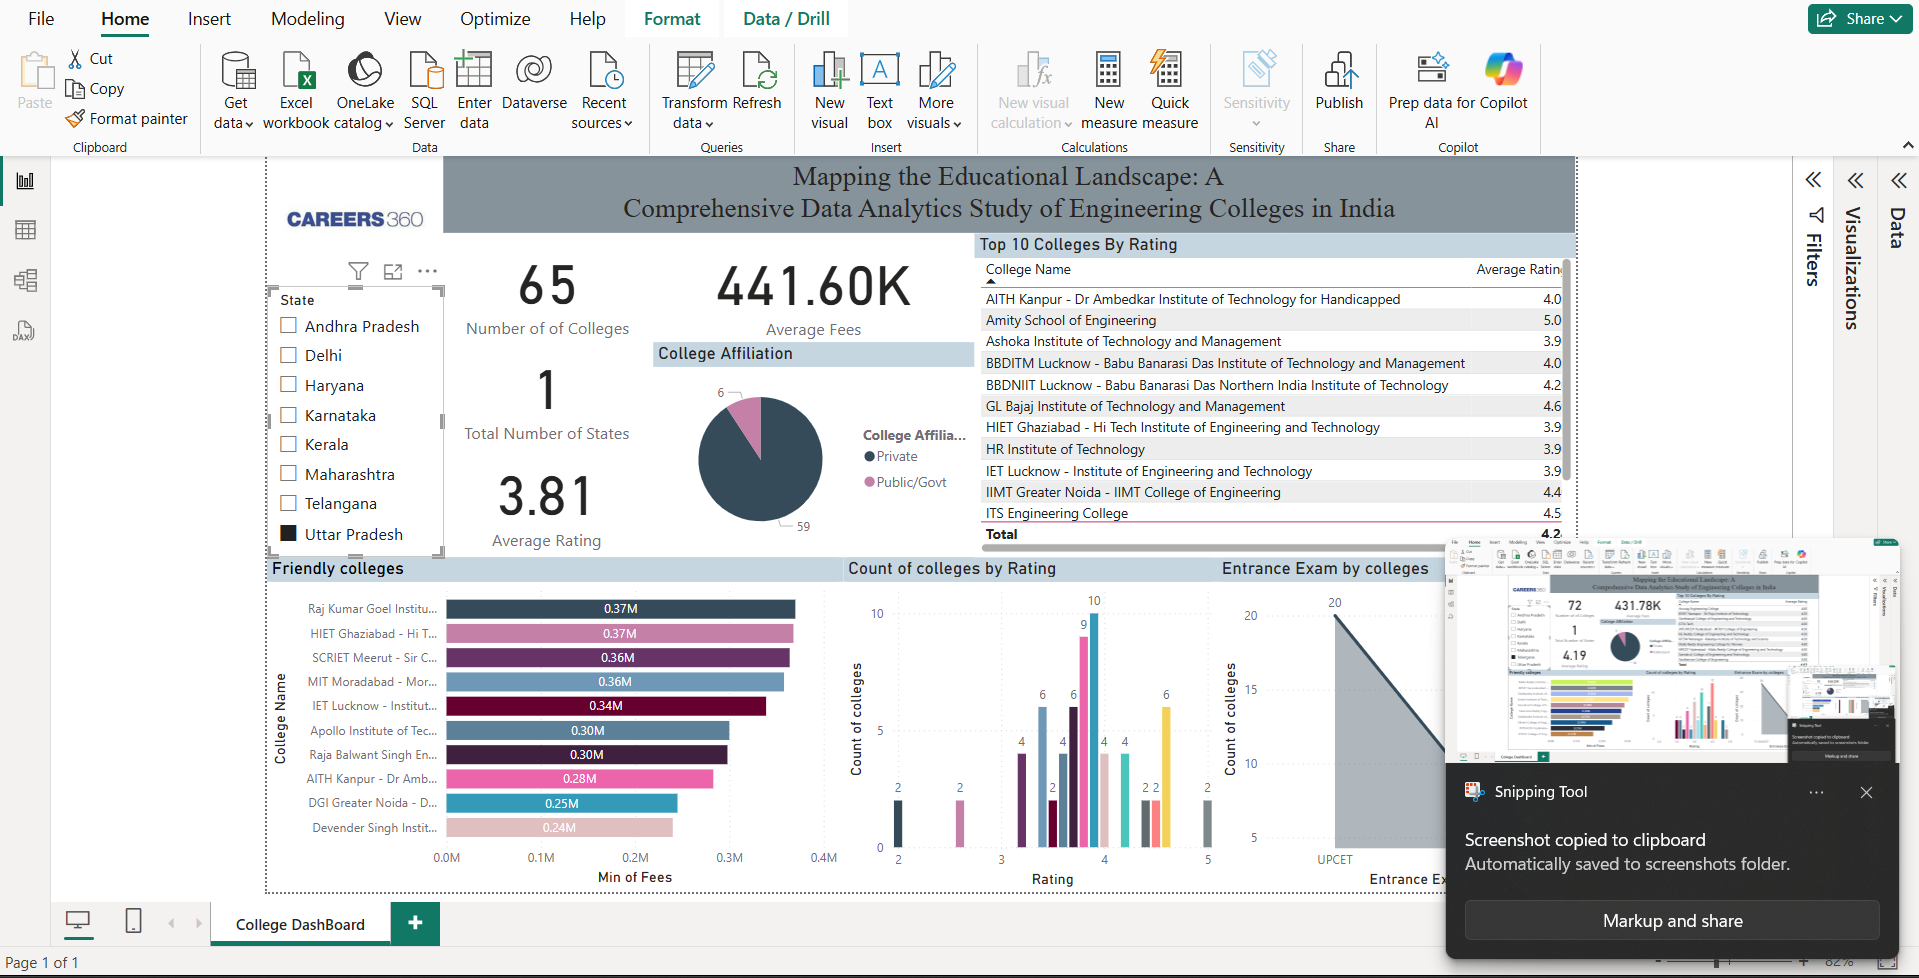

This screenshot's page, from the dashboard's own definition file:
{"tool":"powerbi","page":{"name":"College DashBoard","canvas":[1280,720],"ordinal":0},"visuals":[{"type":"card","fields":{"Values":["Sheet.Average_Fees"]},"box":[377.4,75.5,314.2,109.8],"z":0},{"type":"card","fields":{"Values":["College_data.Count_ccolleges"]},"box":[172.4,75.8,204.2,107.6],"z":1000},{"type":"card","fields":{"Values":["College_data.no_stares"]},"box":[172.9,182.5,203.1,100.2],"z":2000},{"type":"slicer","fields":{"Values":["College_data.State"]},"box":[0,127.6,172.9,264.8],"z":3000},{"type":"textbox","box":[172.9,0,1107.4,75.5],"z":4000},{"type":"pieChart","title":"College Affiliation","fields":{"Category":["College_data.College Affiliation"],"Y":["College_data.Number of of Colleges"]},"box":[377.4,182.5,314.2,209.9],"z":5000},{"type":"card","fields":{"Values":["College_data.Average Rating"]},"box":[172.9,282.7,203.1,108.4],"z":6000},{"type":"columnChart","title":"Count of colleges by Rating","fields":{"Category":["Sheet.Rating"],"Y":["CountNonNull(Sheet.College Name)"],"Series":["Sheet.Rating"]},"box":[563.7,392.5,365.6,327.7],"z":7000},{"type":"barChart","title":"Friendly colleges","fields":{"Category":["College_data.College Name"],"Series":["College_data.College Name"],"Y":["Min(College_data.Fees)"]},"box":[0,392.5,563.7,326.5],"z":8000},{"type":"stackedAreaChart","title":"Entrance Exam by colleges","fields":{"Category":["Sheet.Entrance Exam"],"Y":["Count(College_data.College Name)"]},"box":[929.4,392.5,351,327.7],"z":9000},{"type":"image","box":[0,0,172.4,122.3],"z":10000},{"type":"tableEx","title":"Top 10 Colleges By Rating","fields":{"Values":["College_data.College Name","College_data.Average Rating"]},"box":[691.6,75.5,588.7,317],"z":11000}]}

Visuals, with their boxes on the page's 1280x720 design canvas (x1, y1, x2, y2). These are canvas units, not pixel positions in the 1919x978 screenshot, which may show the page scaled, cropped or inside an application window:
card - Sheet.Average_Fees: 377, 76, 692, 185
card - College_data.Count_ccolleges: 172, 76, 377, 183
card - College_data.no_stares: 173, 182, 376, 283
slicer - College_data.State: 0, 128, 173, 392
textbox: 173, 0, 1280, 76
"College Affiliation" pieChart: 377, 182, 692, 392
card - College_data.Average Rating: 173, 283, 376, 391
"Count of colleges by Rating" columnChart: 564, 392, 929, 720
"Friendly colleges" barChart: 0, 392, 564, 719
"Entrance Exam by colleges" stackedAreaChart: 929, 392, 1280, 720
image: 0, 0, 172, 122
"Top 10 Colleges By Rating" tableEx: 692, 76, 1280, 392
